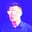face: (5, 3, 23, 25)
